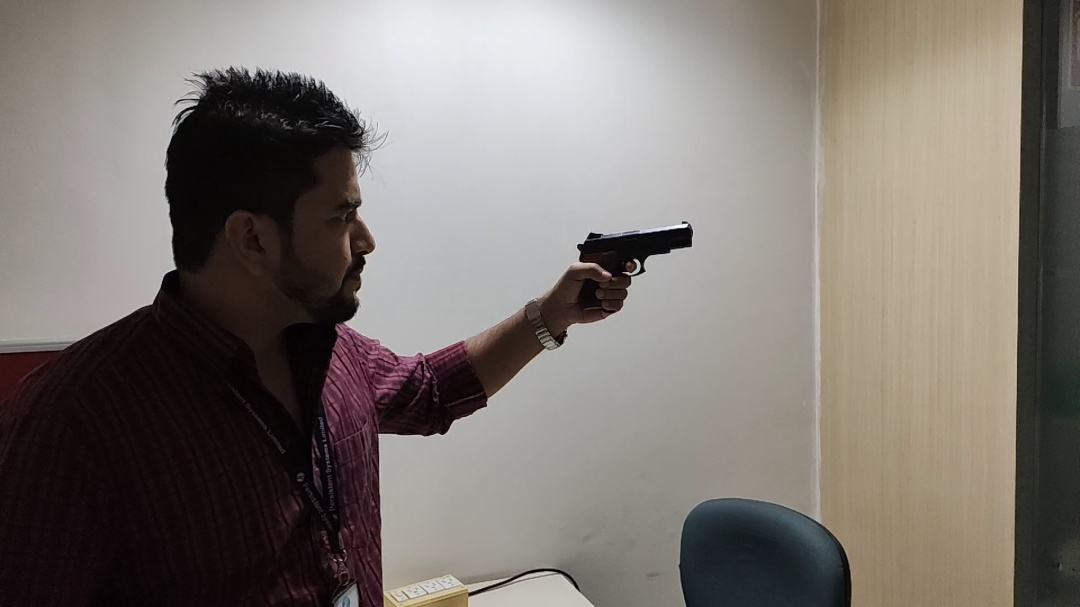gun: (576, 219, 697, 329)
